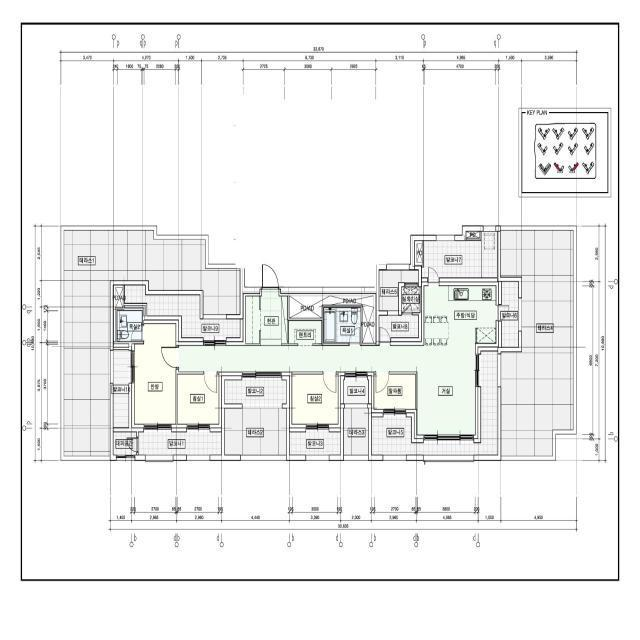space_balconi: (64, 231, 240, 456), (501, 231, 573, 456), (372, 351, 498, 455), (125, 285, 240, 340), (225, 377, 286, 455), (422, 232, 497, 282), (138, 429, 221, 455), (379, 270, 418, 311), (113, 350, 131, 432), (290, 429, 340, 455), (499, 282, 518, 347), (379, 313, 421, 342), (344, 409, 368, 455), (341, 376, 371, 404)
space_bedroom: (132, 320, 178, 428), (290, 374, 340, 428), (177, 374, 221, 428)
space_front: (243, 289, 287, 346)
space_kitchen: (422, 282, 498, 347)
space_living_room: (179, 342, 478, 438)
space_other: (289, 294, 376, 343), (372, 374, 415, 413), (289, 321, 322, 346), (113, 285, 123, 341), (113, 432, 136, 455), (125, 306, 145, 316), (415, 241, 422, 265), (466, 232, 479, 238), (113, 344, 129, 347)
space_outdoor_room: (402, 287, 421, 312)
space_toilet: (324, 307, 361, 343), (117, 310, 142, 341)
